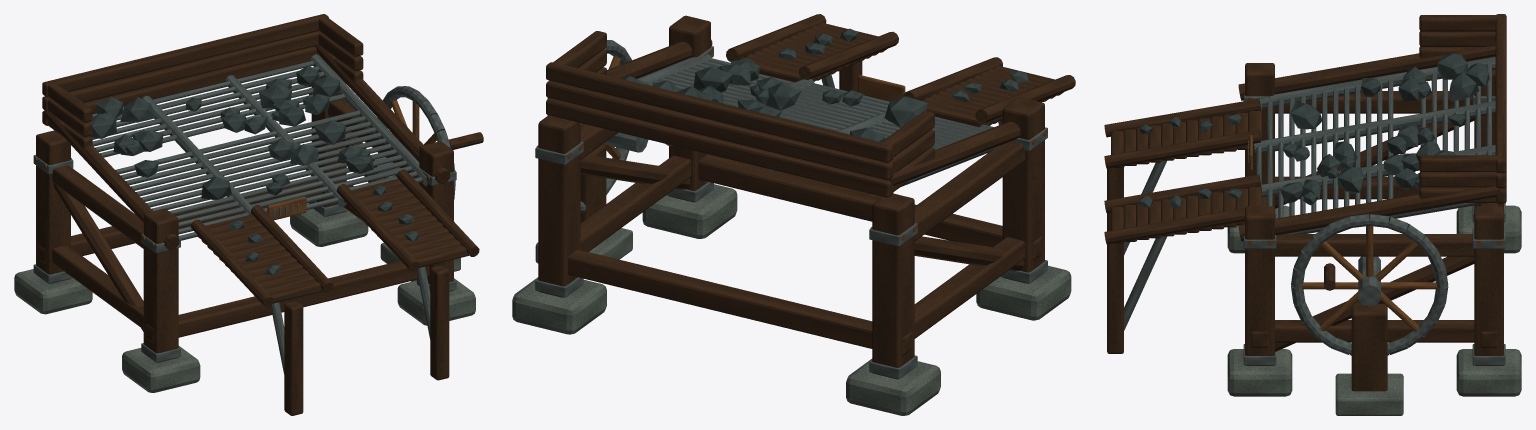
Rendered from sorting_machine.glb.
3 renders of one model, left to right at view 1: azimuth 30°, elevation 25°; view 2: azimuth 150°, elevation 25°; view 3: azimuth 270°, elevation 25°, orthographic. The views are drawn at different scales.
Visible parts, largest first — view 1: Load bearing leg, Iron collar, Unsorted ore, Dressed footing, Peg; view 2: Load bearing leg, Dressed footing, Iron collar, Unsorted ore, Peg; view 3: Load bearing leg, Iron collar, Unsorted ore, Dressed footing, Peg.
Part boxes in pixels (<box>): Load bearing leg: <box>36,14,483,415</box>; Iron collar: <box>33,54,456,374</box>; Unsorted ore: <box>90,65,418,275</box>; Dressed footing: <box>14,203,475,392</box>; Peg: <box>34,93,455,247</box>; Load bearing leg: <box>538,14,1075,379</box>; Dressed footing: <box>512,184,1071,415</box>; Iron collar: <box>535,40,1047,378</box>; Unsorted ore: <box>623,28,1028,141</box>; Peg: <box>536,49,1047,240</box>; Load bearing leg: <box>1104,14,1506,391</box>; Iron collar: <box>1124,57,1505,365</box>; Unsorted ore: <box>1138,53,1489,207</box>; Dressed footing: <box>1227,205,1521,415</box>; Peg: <box>1247,97,1501,331</box>.
Bounding box in the file's own units: 4.68 × 2.52 × 4.19.
5 materials, 5 textured.
